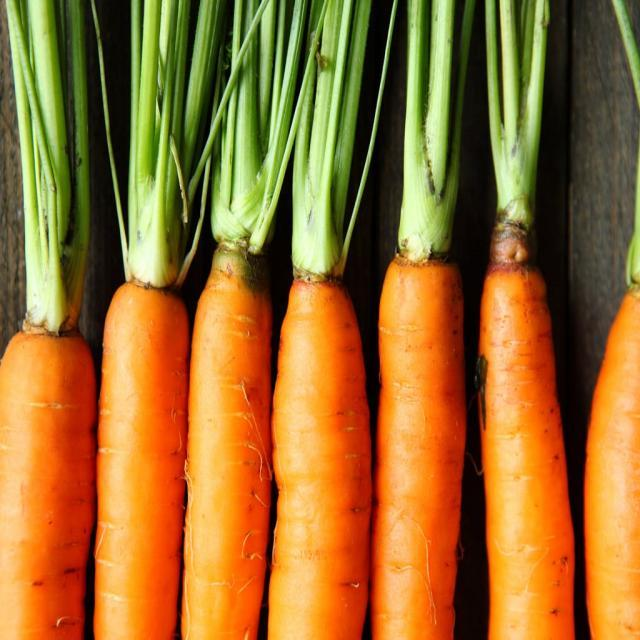Carrot: (268, 278, 372, 640), (477, 260, 573, 640), (381, 260, 468, 640), (90, 284, 182, 640), (186, 275, 268, 640), (0, 329, 94, 640), (582, 284, 640, 640)
